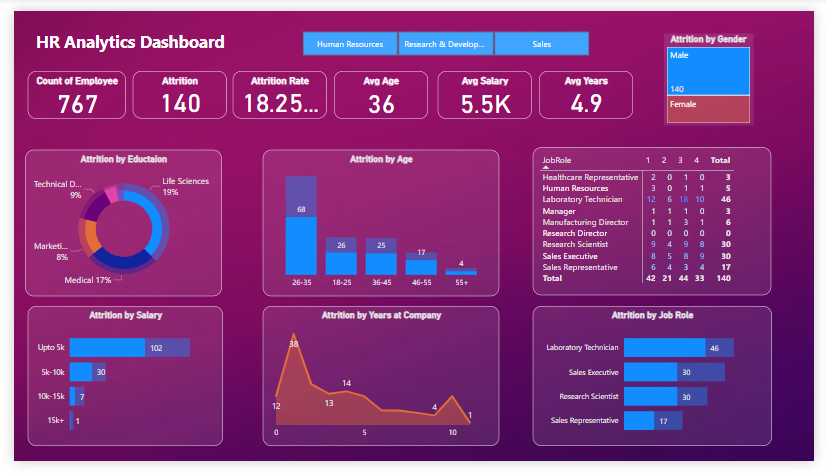

The dashboard page shown, as its layout file describes it:
{"tool":"powerbi","page":{"name":"Page 1","canvas":[1280,720],"ordinal":0},"visuals":[{"type":"card","title":"Avg Salary","fields":{"Values":["Avg(HR_Analytics.MonthlyIncome)"]},"box":[678.6,95.7,150,77.1],"z":0},{"type":"card","title":"Count of Employee","fields":{"Values":["CountNonNull(HR_Analytics.EmpID)"]},"box":[21.4,95.7,157.1,77.1],"z":1000},{"type":"card","title":"Attrition","fields":{"Values":["Sum(HR_Analytics.AttritionCount)"]},"box":[190,96,150,75.7],"z":2000},{"type":"card","title":"Attrition Rate","fields":{"Values":["HR_Analytics.AttritionRate"]},"box":[350,95.7,150,75.7],"z":3000},{"type":"card","title":"Avg Years","fields":{"Values":["Avg(HR_Analytics.YearsAtCompany)"]},"box":[840,95.7,150,75.7],"z":4000},{"type":"card","title":"Avg Age","fields":{"Values":["Avg(HR_Analytics.Age)"]},"box":[511.4,95.7,150,77.1],"z":5000},{"type":"donutChart","title":"Attrition by Eductaion","fields":{"Category":["HR_Analytics.EducationField"],"Y":["Sum(HR_Analytics.AttritionCount)"]},"box":[18.6,221.4,314.3,234.3],"z":6000},{"type":"pivotTable","title":"Attrition by Eductaion","fields":{"Rows":["HR_Analytics.JobRole"],"Columns":["HR_Analytics.JobSatisfaction"],"Values":["Sum(HR_Analytics.AttritionCount)"]},"box":[830,218.6,381.4,237.1],"z":7000},{"type":"columnChart","title":"Attrition by Age","fields":{"Category":["HR_Analytics.AgeGroup"],"Y":["Sum(HR_Analytics.AttritionCount)"]},"box":[398.6,221.4,378.6,234.3],"z":8000},{"type":"barChart","title":"Attrition by Salary","fields":{"Category":["HR_Analytics.SalarySlab"],"Y":["Sum(HR_Analytics.AttritionCount)"]},"box":[22,472,312,224],"z":9000},{"type":"barChart","title":"Attrition by Job Role","fields":{"Y":["Sum(HR_Analytics.AttritionCount)"],"Category":["HR_Analytics.JobRole"]},"box":[830,472,382,224],"z":10000},{"type":"areaChart","title":"Attrition by Years at Company","fields":{"Category":["HR_Analytics.YearsAtCompany"],"Y":["Sum(HR_Analytics.AttritionCount)"]},"box":[398.6,471.4,378.6,224.3],"z":11000},{"type":"treemap","title":"Attrition by Gender","fields":{"Group":["HR_Analytics.Gender"],"Values":["Sum(HR_Analytics.AttritionCount)"]},"box":[1040,35.7,142.9,147.1],"z":12000},{"type":"slicer","fields":{"Values":["HR_Analytics.Department"]},"box":[435,25,508.3,51.7],"z":13000},{"type":"textbox","box":[30,25.7,345.7,58.6],"z":14000}]}

Visuals, with their boxes in screenshot pixels (x1, y1, x2, y2), scaled from the page's 1280x720 canvas onto the 826x473 screenshot:
"Avg Salary" card: left=438, top=63, right=535, bottom=114
"Count of Employee" card: left=14, top=63, right=115, bottom=114
"Attrition" card: left=123, top=63, right=219, bottom=113
"Attrition Rate" card: left=226, top=63, right=323, bottom=113
"Avg Years" card: left=542, top=63, right=639, bottom=113
"Avg Age" card: left=330, top=63, right=427, bottom=114
"Attrition by Eductaion" donutChart: left=12, top=145, right=215, bottom=299
"Attrition by Eductaion" pivotTable: left=536, top=144, right=782, bottom=299
"Attrition by Age" columnChart: left=257, top=145, right=502, bottom=299
"Attrition by Salary" barChart: left=14, top=310, right=216, bottom=457
"Attrition by Job Role" barChart: left=536, top=310, right=782, bottom=457
"Attrition by Years at Company" areaChart: left=257, top=310, right=502, bottom=457
"Attrition by Gender" treemap: left=671, top=23, right=763, bottom=120
slicer - HR_Analytics.Department: left=281, top=16, right=609, bottom=50
textbox: left=19, top=17, right=242, bottom=55
